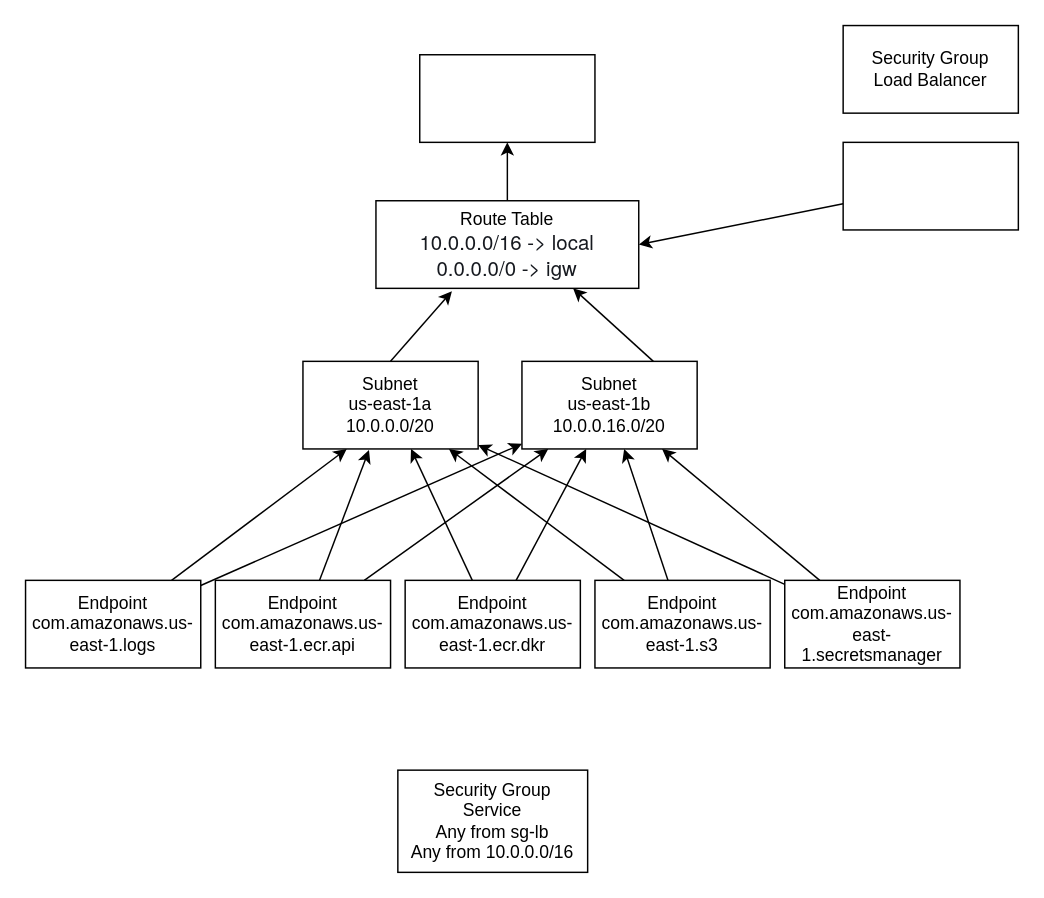
Some shapes in this 1044 by 898 pixel diagram are drawn without their labels. The centre of each missing label's shape, as x and y in pixels:
Endpoint Gateway com.amazonaws.us-east-1.s3: the point at 930,185
Internet Gateway: the point at 506,97
